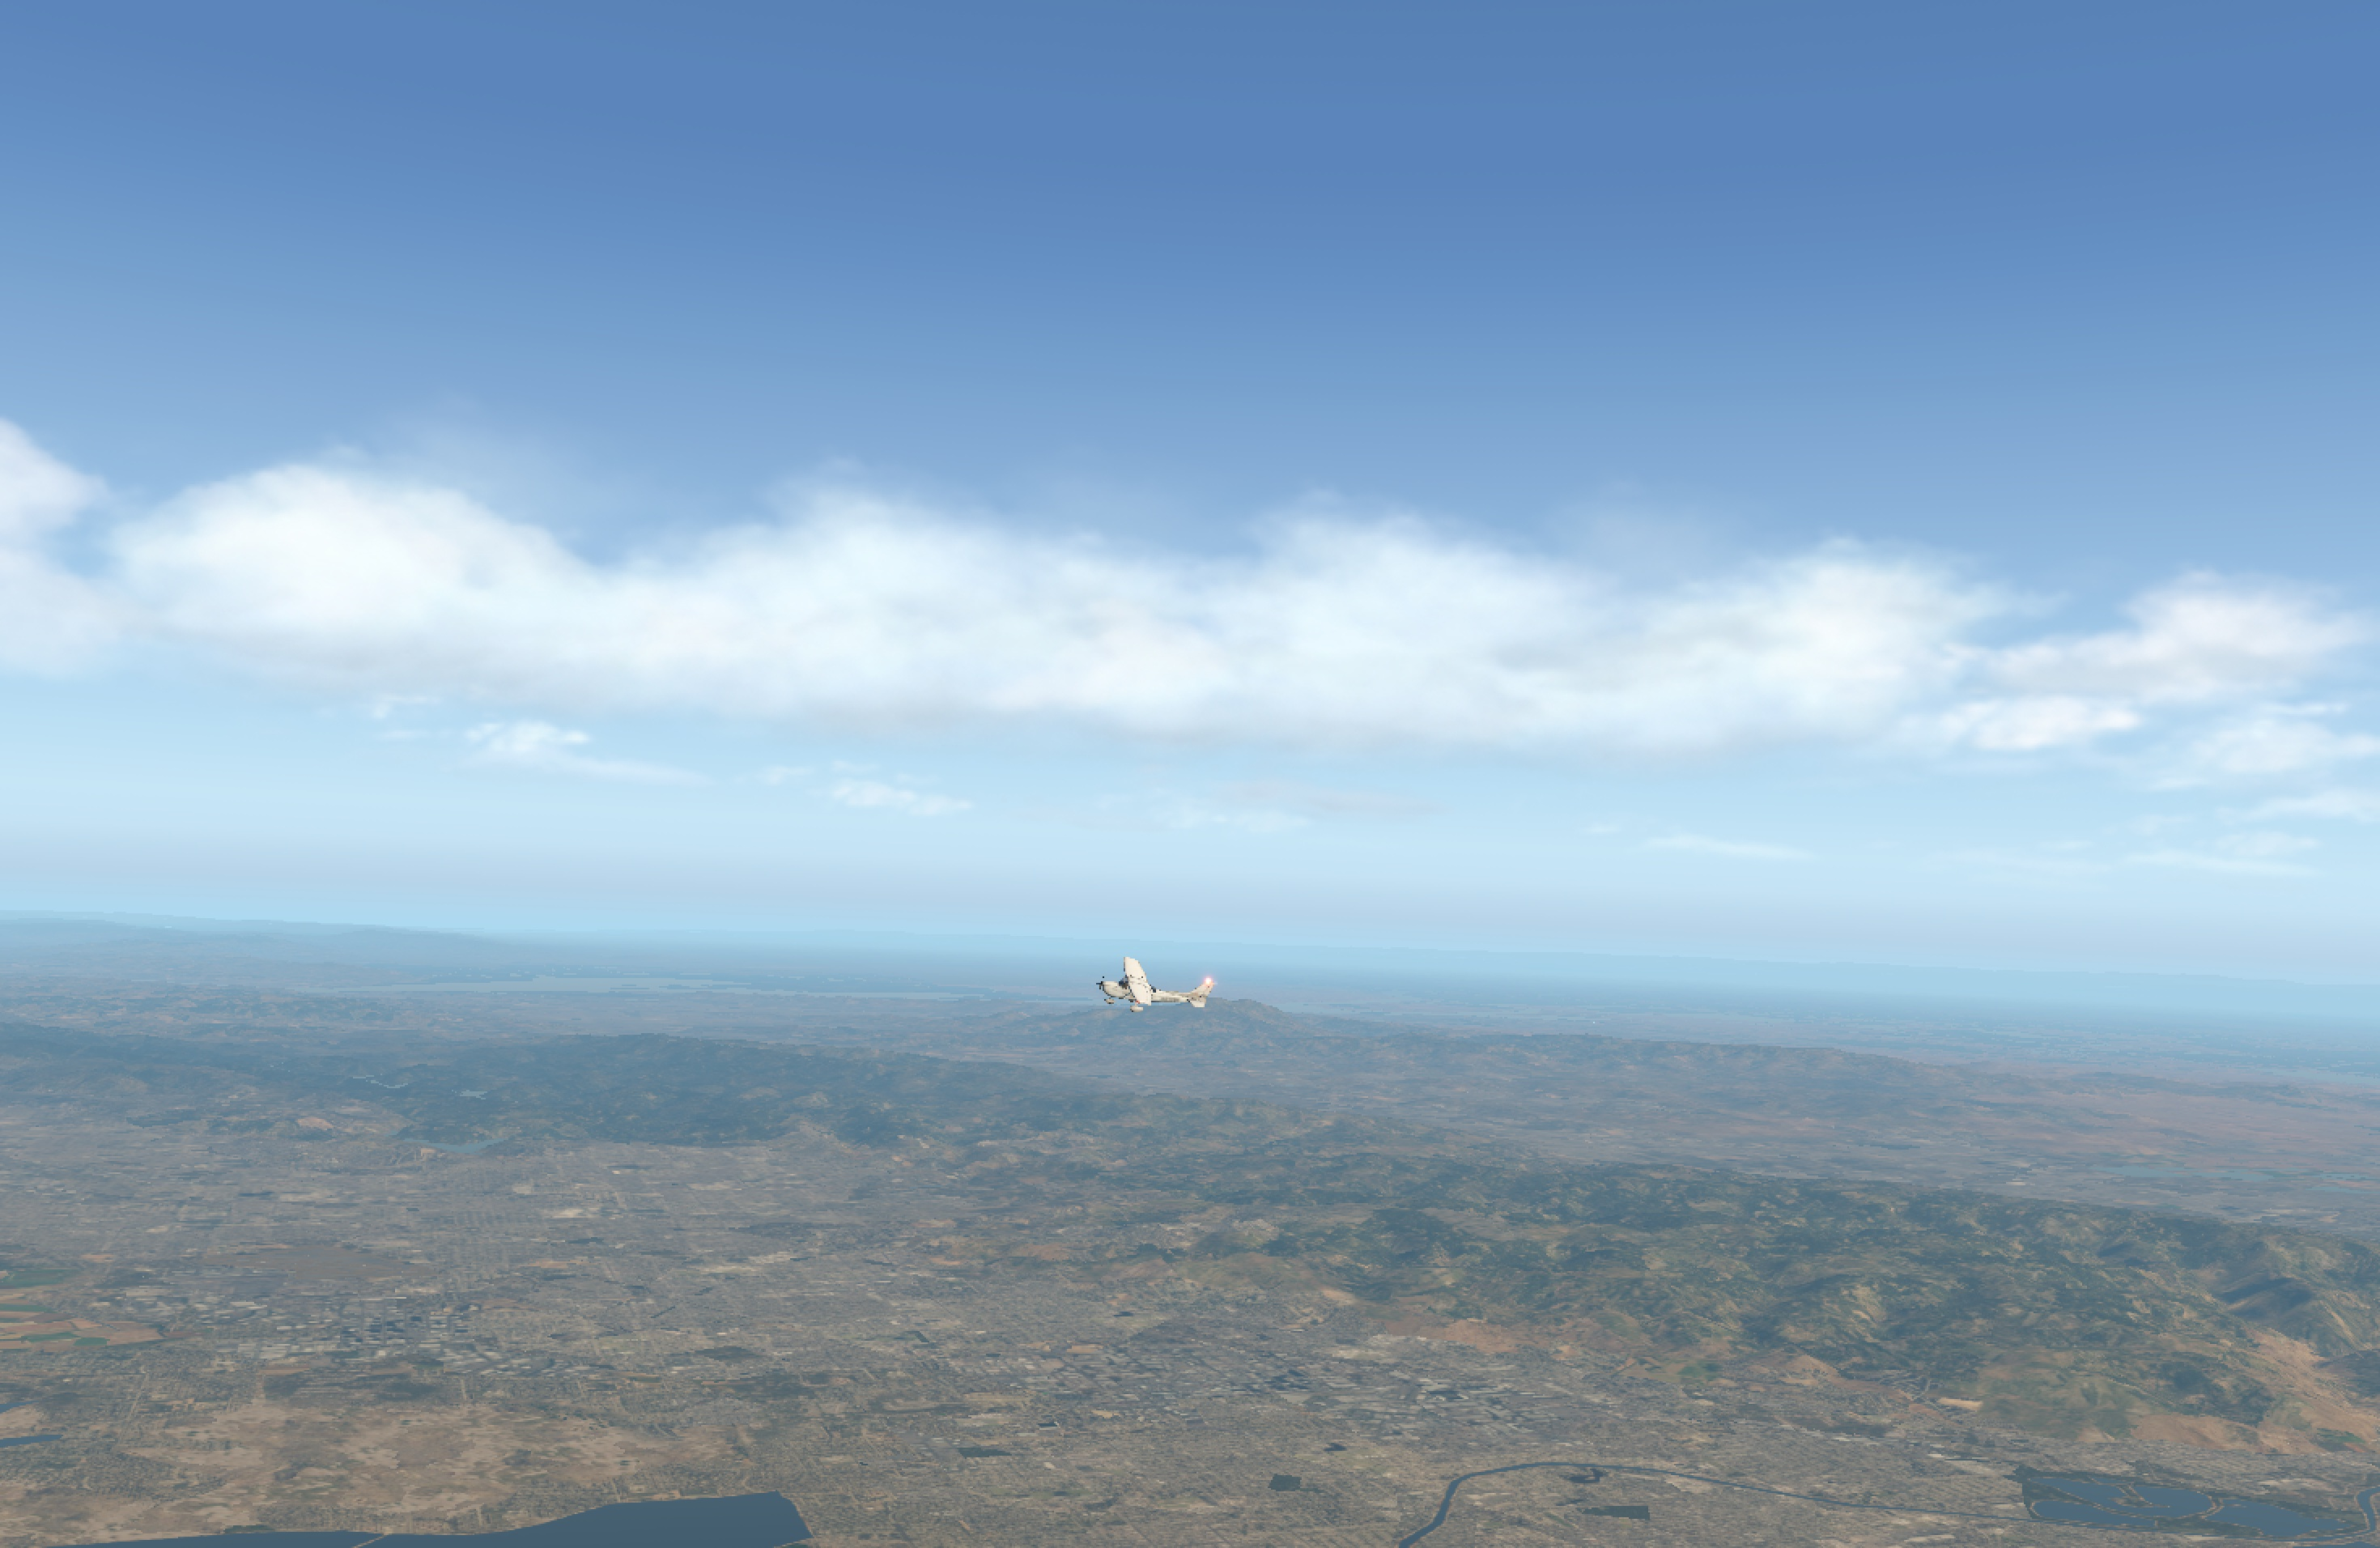aircraft: (1076, 968, 1188, 1010)
